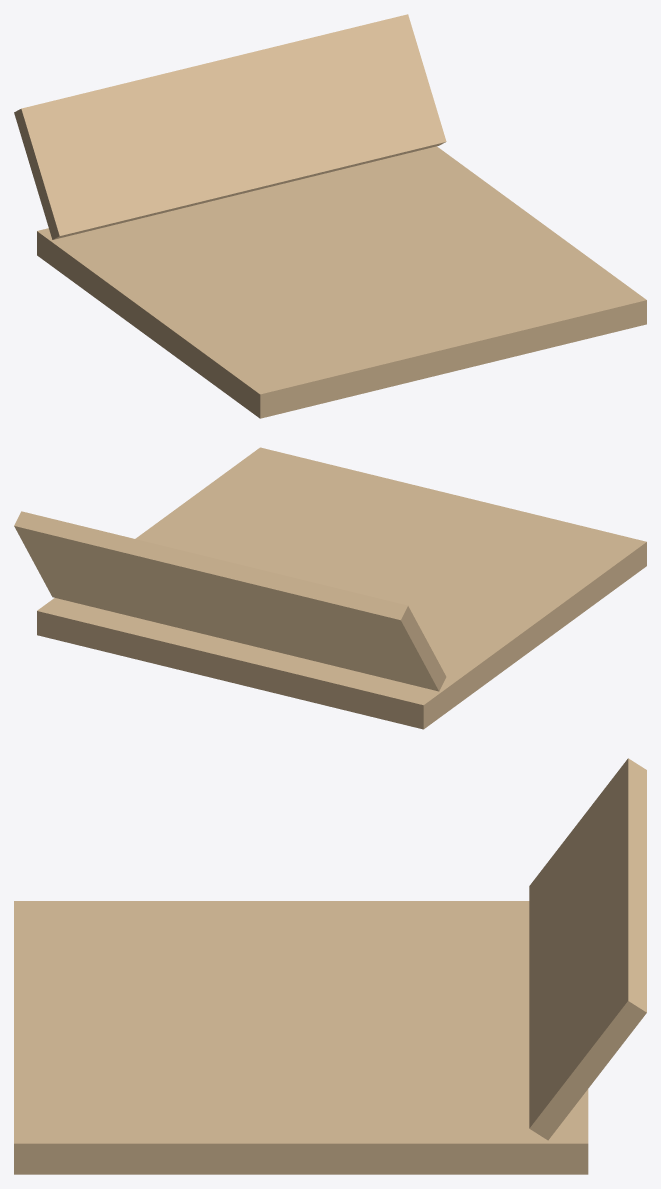
The model's file is pizza_box.fbx.
3 renders of one model, top to bottom at view 1: azimuth 30°, elevation 25°; view 2: azimuth 150°, elevation 25°; view 3: azimuth 270°, elevation 25°, orthographic. The views are drawn at different scales.
Visible parts, largest first — view 1: pizza_box; view 2: pizza_box; view 3: pizza_box.
Boxes of the visible parts, x1,y1,x2,y2 form: pizza_box: [14, 14, 646, 418]; pizza_box: [14, 447, 646, 729]; pizza_box: [14, 758, 646, 1174].
Bounding box in the file's own units: 0.1 × 0.0334 × 0.1102.
